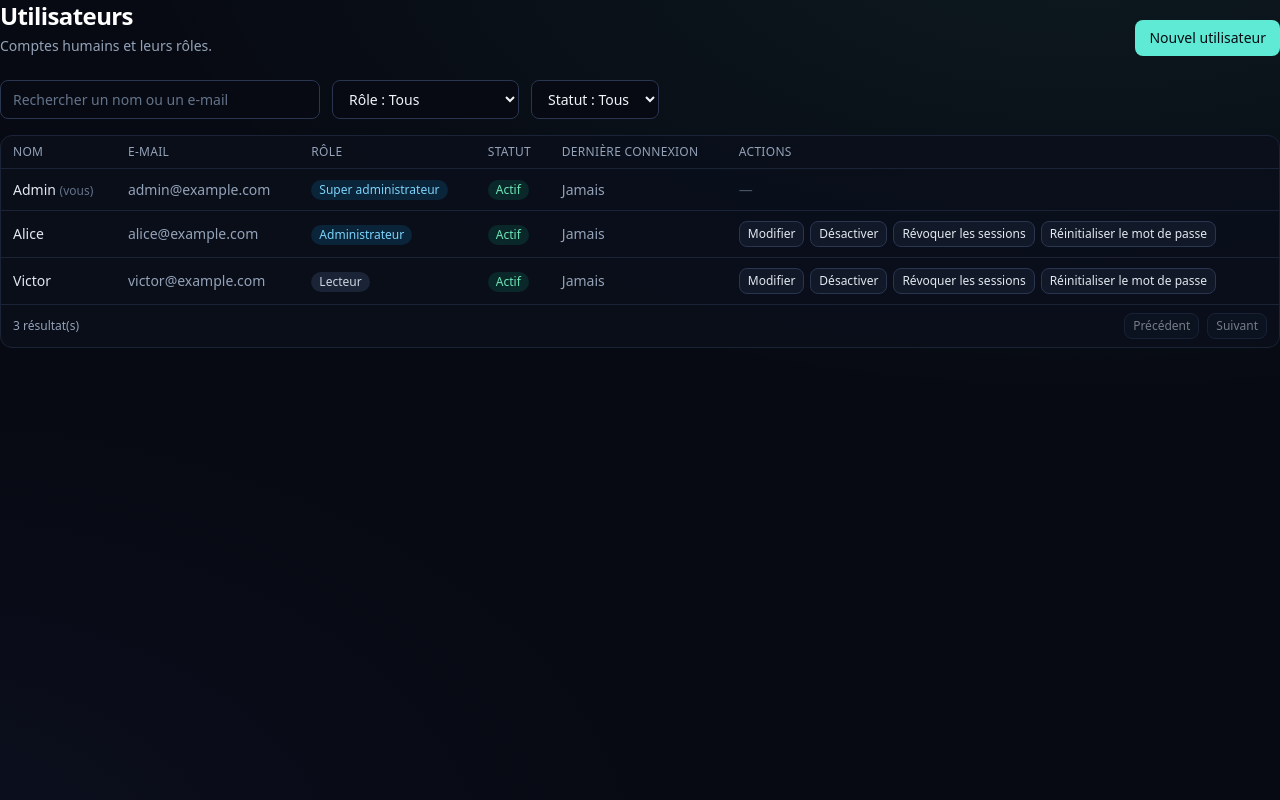
UsersView › formulaire de création : envoie les données et affiche les erreurs serveur
Check: the text "Victor" is shown, box [1,258,116,304]
Click the button "Nouvel utilisateur" at (1208, 38), box [1136,20,1279,56]
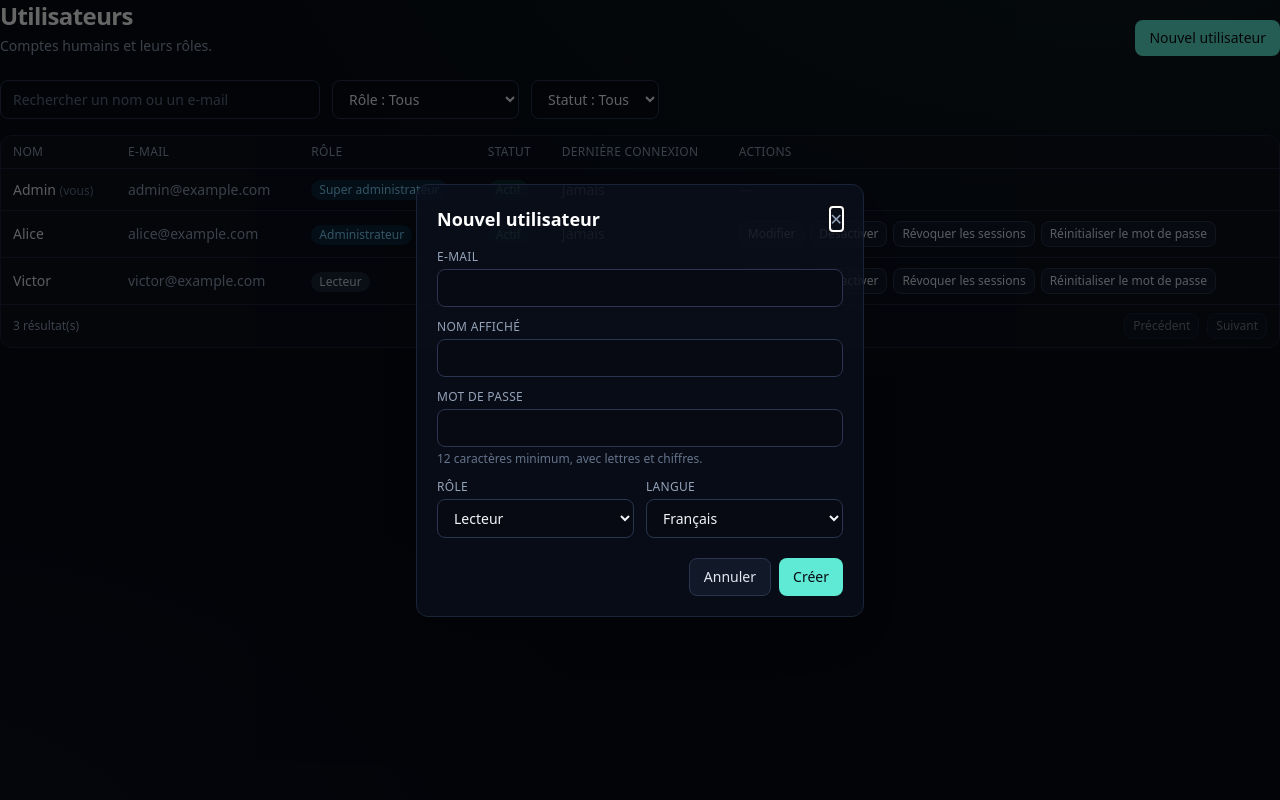
Type "new@example.com" into the field labelled "E-mail" at (640, 288), box [437,268,843,306]
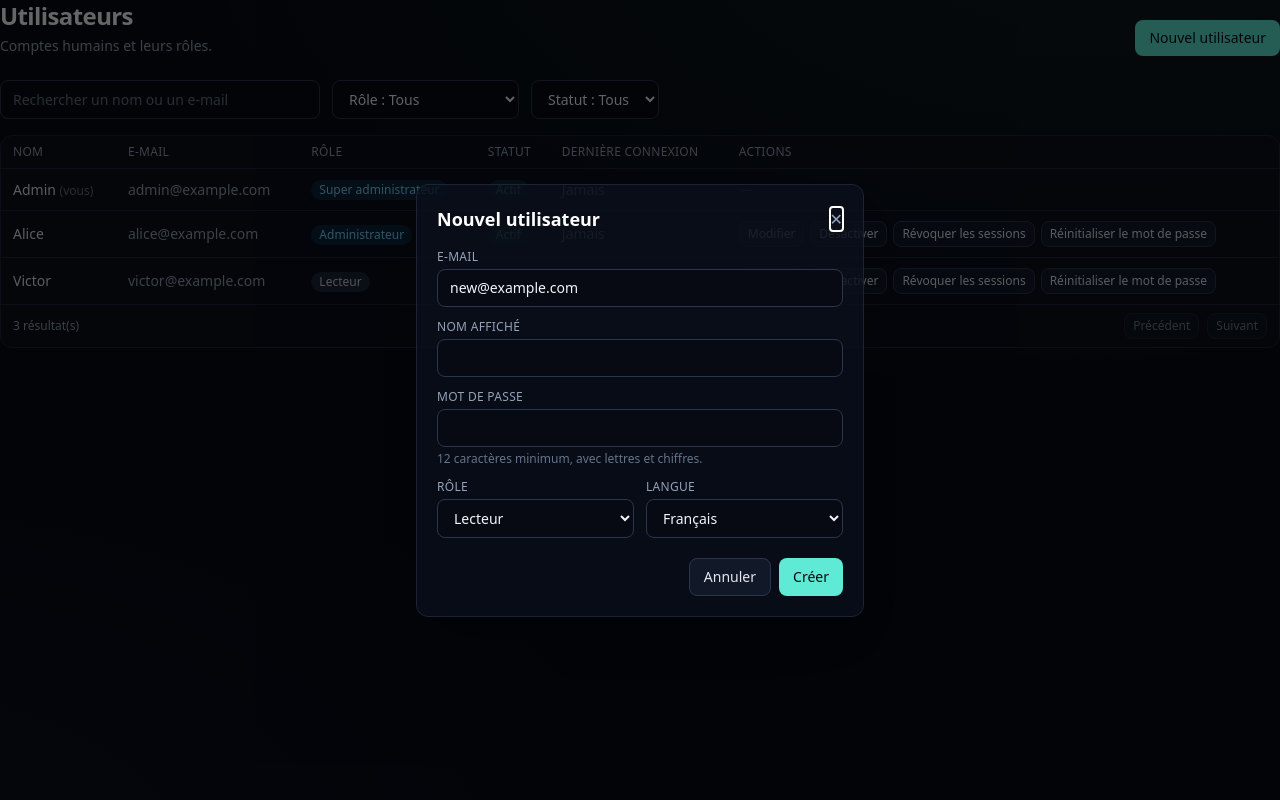
Type "New" into the field labelled "Nom affiché" at (640, 358), box [437,338,843,376]
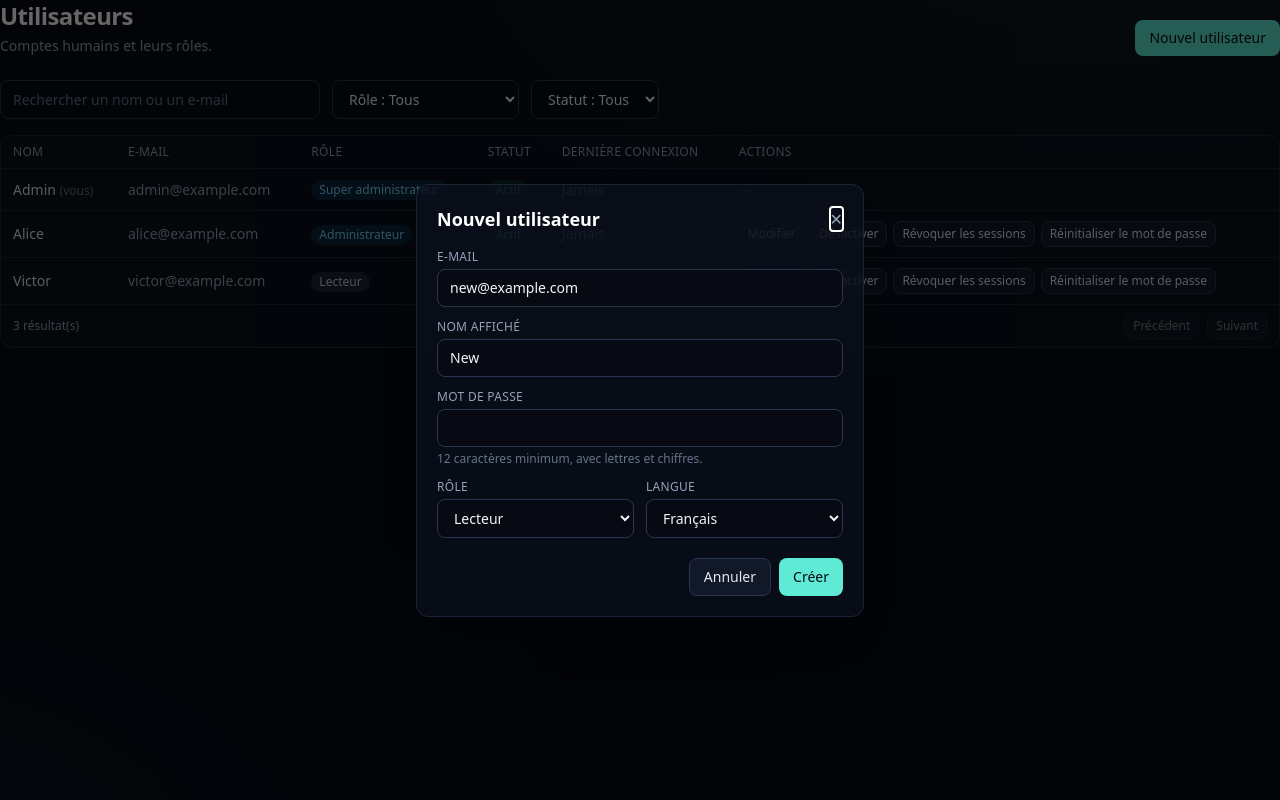
Type "Strong-Password-12" into the password field labelled "Mot de passe" at (640, 428), box [437,408,843,446]
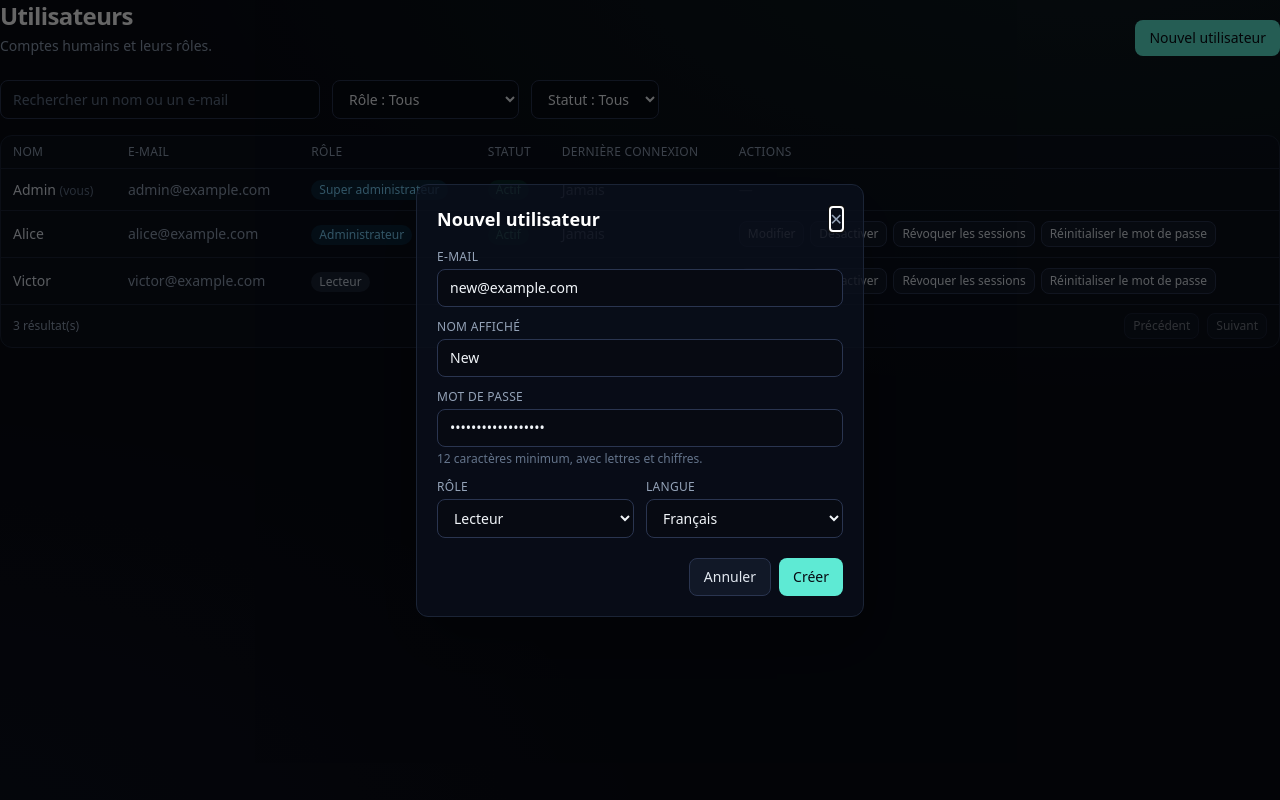
Click the button "Créer" at (811, 576), box [779,558,843,596]
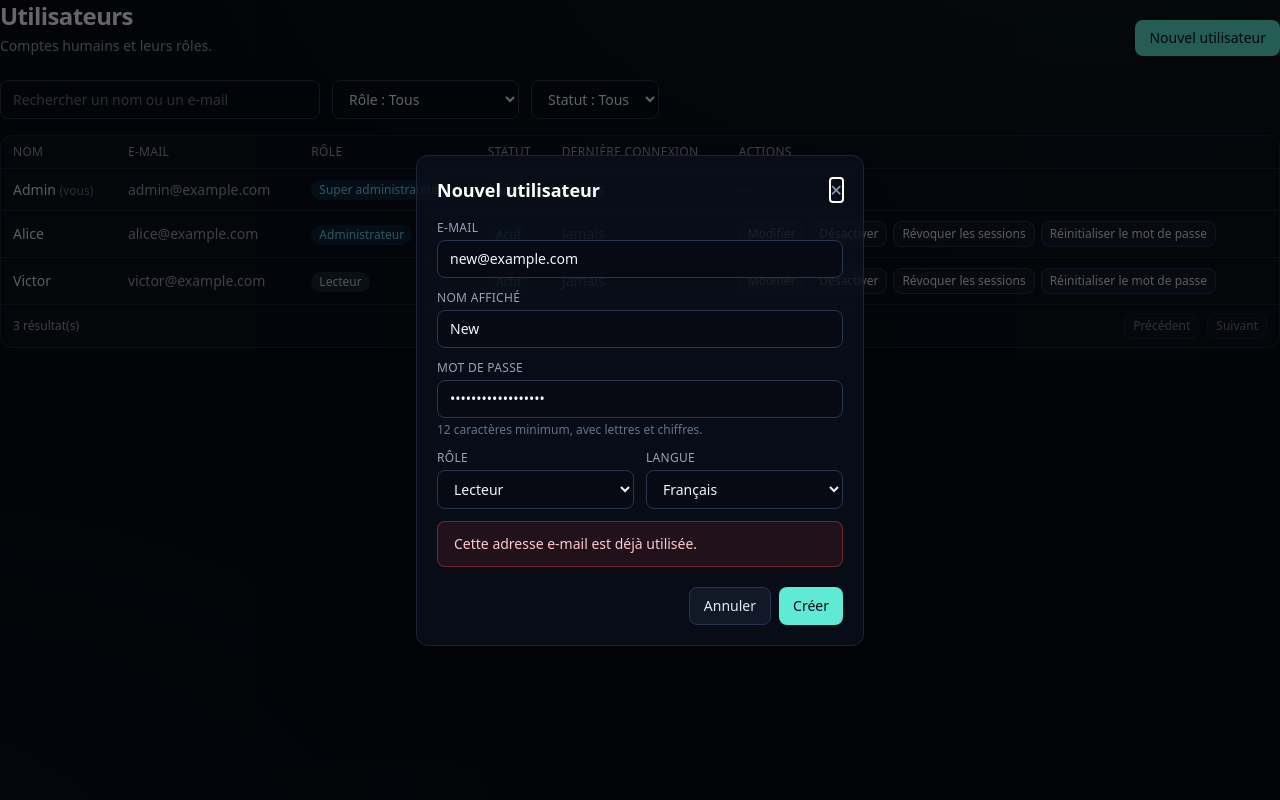
Check: the message reads "Cette adresse e-mail est déjà utilisée.", box [454,534,697,552]
